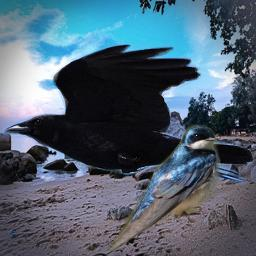Crow: (3, 44, 255, 185)
Swallow: (109, 122, 221, 254)
